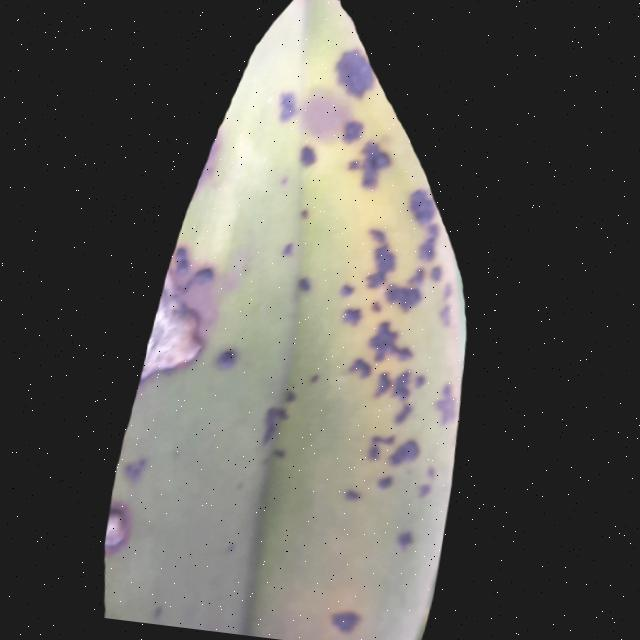mite: (254, 360, 327, 468), (256, 381, 305, 464), (347, 136, 396, 191), (406, 185, 441, 227), (210, 338, 247, 377), (261, 402, 292, 446), (292, 136, 326, 173), (390, 434, 424, 469), (275, 88, 301, 123), (341, 117, 366, 144), (216, 345, 241, 371), (298, 142, 321, 168), (342, 303, 366, 327), (397, 527, 419, 551), (378, 471, 398, 491), (297, 274, 315, 293), (284, 387, 301, 405), (273, 444, 291, 460)
